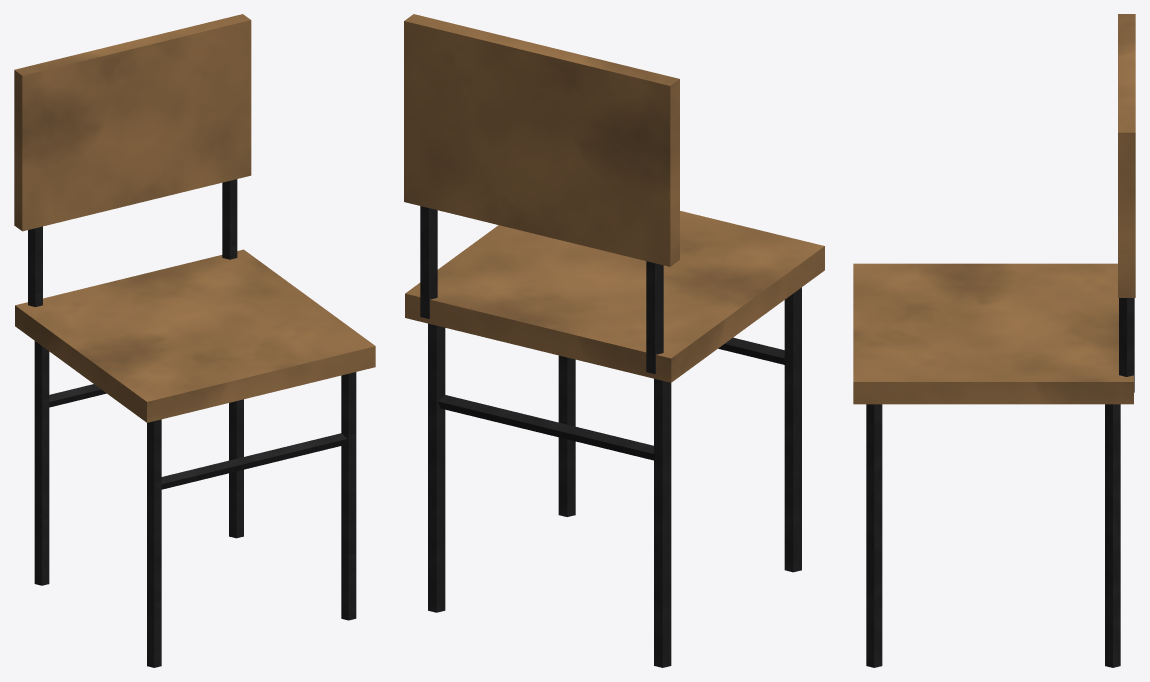
The model's file is Chair.obj.
3 renders of one model, left to right at view 1: azimuth 30°, elevation 25°; view 2: azimuth 150°, elevation 25°; view 3: azimuth 270°, elevation 25°, orthographic. The views are drawn at different scales.
Visible parts, largest first — view 1: back, seat, legs; view 2: back, seat, legs; view 3: seat, legs, back.
Boxes of the visible parts, bbox=[...] form: back: bbox=[14, 14, 251, 231]; seat: bbox=[15, 249, 375, 422]; legs: bbox=[28, 179, 356, 667]; back: bbox=[404, 14, 679, 266]; seat: bbox=[405, 211, 824, 382]; legs: bbox=[420, 206, 801, 667]; seat: bbox=[853, 263, 1133, 404]; legs: bbox=[866, 298, 1134, 667]; back: bbox=[1118, 14, 1135, 297].
Size of the model in its own units: 0.4 by 0.85 by 0.4025.
Materials: 2 (2 with a texture image).
